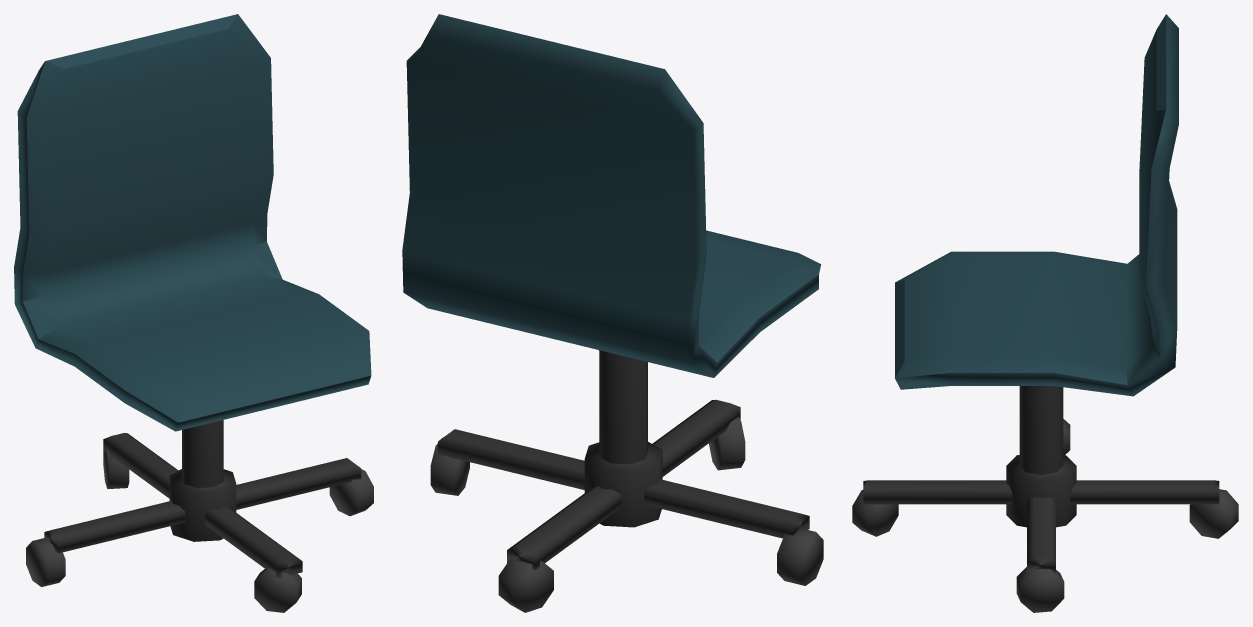
File: chair02.glb
The picture shows the model from 3 angles, left to right: view 1: azimuth 30°, elevation 25°; view 2: azimuth 150°, elevation 25°; view 3: azimuth 270°, elevation 25°; orthographic projection. The views are drawn at different scales.
Parts seen in each view (by area): view 1: mesh_furniture_chair_03; view 2: mesh_furniture_chair_03; view 3: mesh_furniture_chair_03.
Part boxes in pixels (x1,y1,x2,y2): mesh_furniture_chair_03: (14, 14, 373, 612); mesh_furniture_chair_03: (402, 14, 823, 612); mesh_furniture_chair_03: (852, 14, 1238, 612).
Bounding box in the file's own units: 0.9176 × 1.26 × 0.9322.
Materials: 1 (1 with a texture image).
